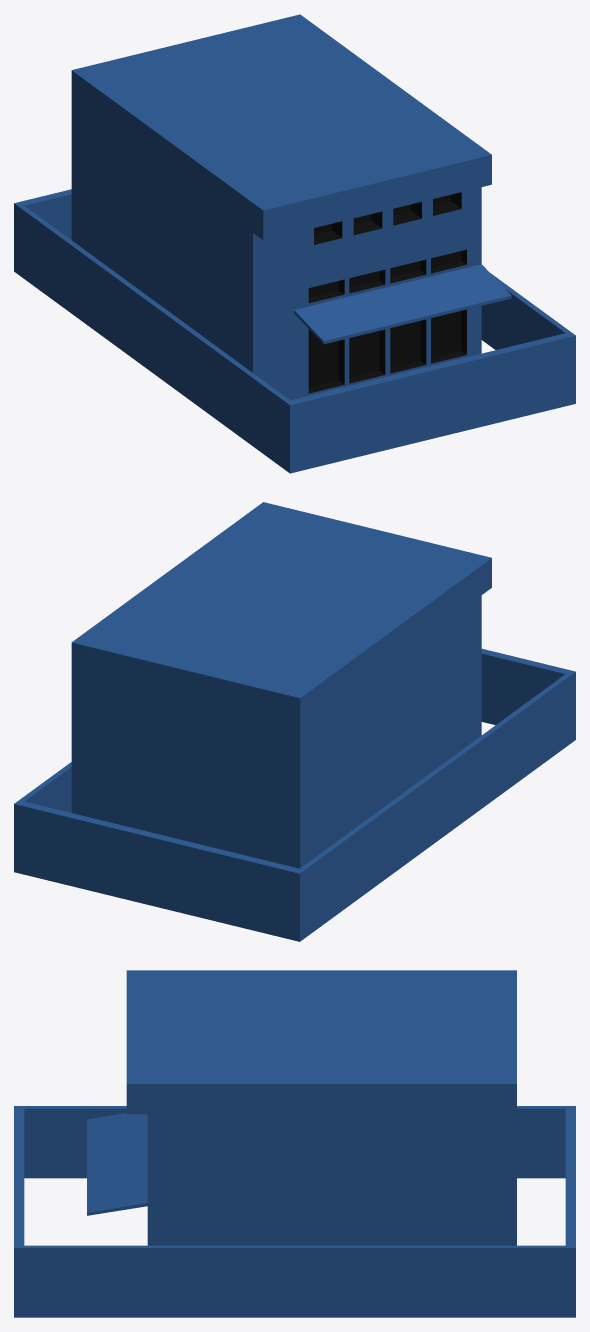
File: escola_1.fbx
3 views of the same model, one above another, from view 1: azimuth 30°, elevation 25°; view 2: azimuth 150°, elevation 25°; view 3: azimuth 270°, elevation 25° (orthographic).
Parts seen in each view (by area): view 1: Cube; view 2: Cube; view 3: Cube.
Part boxes in pixels (box(x1,y1,x2,y2)): Cube: box(14, 14, 575, 473); Cube: box(14, 502, 575, 941); Cube: box(14, 970, 575, 1317).
Size of the model in its own units: 2219 by 1599 by 3711.
